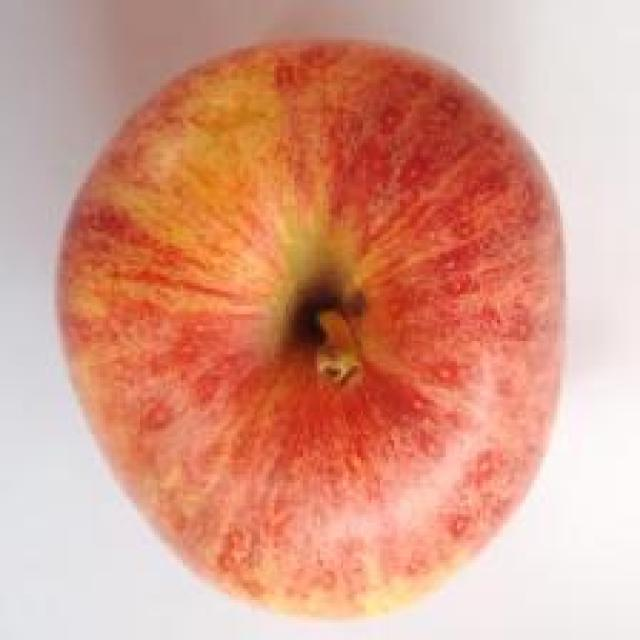apple: (35, 28, 603, 637)
